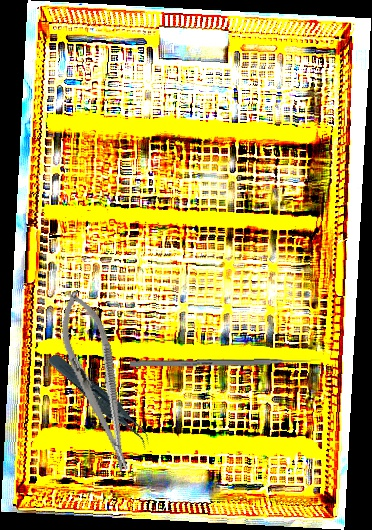Needle Holder: (50, 286, 145, 477)
Pusher: (129, 357, 322, 368)
Tissue Forceps: (46, 337, 154, 467)
